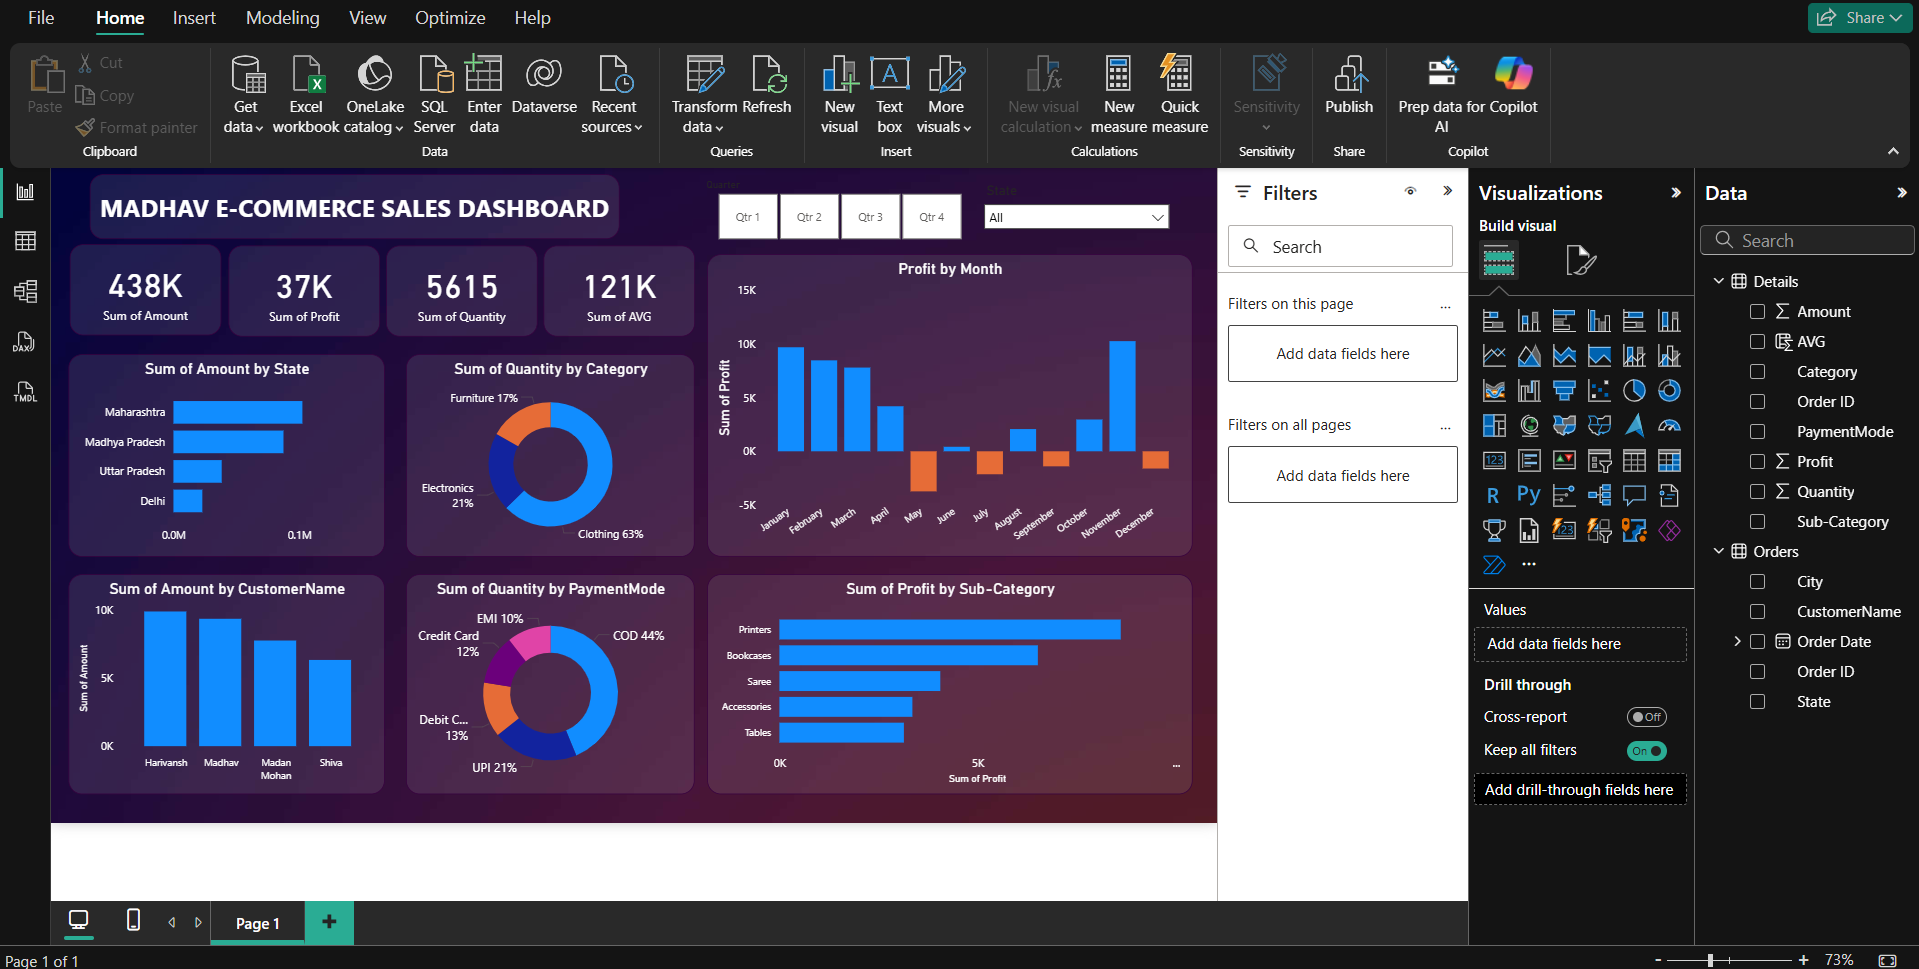

This screenshot's page, from the dashboard's own definition file:
{"tool":"powerbi","page":{"name":"Page 1","canvas":[1280,720],"ordinal":0},"visuals":[{"type":"columnChart","title":"Profit by Month","fields":{"Category":["Orders.Order Date.Variation.Date Hierarchy.Month"],"Y":["Details.Profit"]},"box":[720.4,94.7,532.4,332.1],"z":1000},{"type":"barChart","fields":{"Category":["Details.Sub-Category"],"Y":["Details.Profit"]},"box":[720.4,446,532.4,241.5],"z":2000},{"type":"donutChart","fields":{"Category":["Details.Category"],"Y":["Details.Quantity"]},"box":[389.7,204.5,317,222.3],"z":2001},{"type":"donutChart","fields":{"Y":["Details.Quantity"],"Category":["Details.PaymentMode"]},"box":[389.7,446,317,241.5],"z":2002},{"type":"card","fields":{"Values":["Details.Amount"]},"box":[20.6,83.7,166,100.2],"z":2003},{"type":"card","fields":{"Values":["Details.Profit"]},"box":[194.9,85.1,166,100.2],"z":2004},{"type":"card","fields":{"Values":["Details.Quantity"]},"box":[367.8,85.1,166,100.2],"z":2005},{"type":"card","fields":{"Values":["Details.AVG"]},"box":[540.7,85.1,166,100.2],"z":2006},{"type":"barChart","fields":{"Category":["Orders.State"],"Y":["Details.Amount"]},"box":[19.2,204.5,347.2,222.3],"z":2007},{"type":"columnChart","fields":{"Category":["Orders.CustomerName"],"Y":["Details.Amount"]},"box":[19.2,446,347.2,241.5],"z":2008},{"type":"slicer","fields":{"Values":["Orders.Order Date.Variation.Date Hierarchy.Quarter"]},"box":[706.7,6.9,317,78.2],"z":2009},{"type":"slicer","fields":{"Values":["Orders.State"]},"box":[1014.1,11,223.7,67.2],"z":2010},{"type":"textbox","box":[42.5,6.9,540.7,52.1],"z":2011}]}

Visuals, with their boxes on the page's 1280x720 design canvas (x1, y1, x2, y2). These are canvas units, not pixel positions in the 1919x969 screenshot, which may show the page scaled, cropped or inside an application window:
"Profit by Month" columnChart: region(720, 95, 1253, 427)
barChart - Details.Sub-Category x Details.Profit: region(720, 446, 1253, 688)
donutChart - Details.Category x Details.Quantity: region(390, 204, 707, 427)
donutChart - Details.Quantity x Details.PaymentMode: region(390, 446, 707, 688)
card - Details.Amount: region(21, 84, 187, 184)
card - Details.Profit: region(195, 85, 361, 185)
card - Details.Quantity: region(368, 85, 534, 185)
card - Details.AVG: region(541, 85, 707, 185)
barChart - Orders.State x Details.Amount: region(19, 204, 366, 427)
columnChart - Orders.CustomerName x Details.Amount: region(19, 446, 366, 688)
slicer - Orders.Order Date.Variation.Date Hierarchy.Quarter: region(707, 7, 1024, 85)
slicer - Orders.State: region(1014, 11, 1238, 78)
textbox: region(42, 7, 583, 59)
